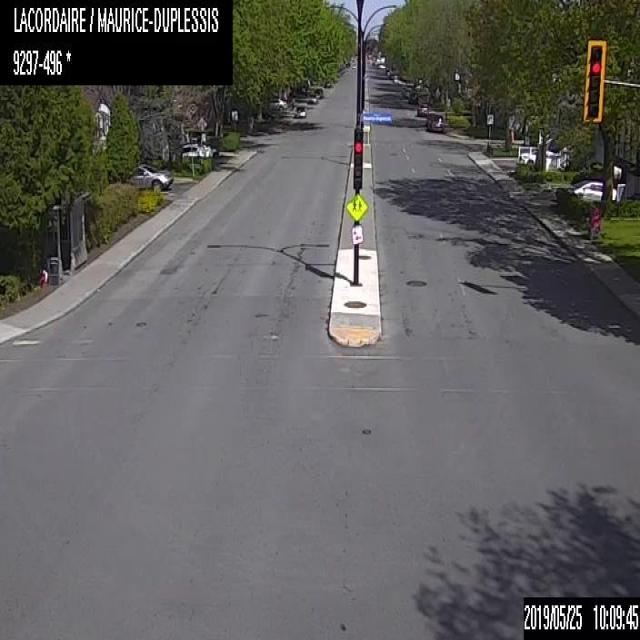vehicle: (122, 162, 173, 190), (566, 178, 618, 202), (518, 147, 558, 166), (177, 142, 214, 157), (426, 110, 445, 130), (268, 97, 288, 111), (416, 101, 428, 115), (407, 89, 418, 103), (294, 105, 307, 116), (313, 87, 323, 97), (306, 93, 316, 103), (323, 79, 331, 86)
